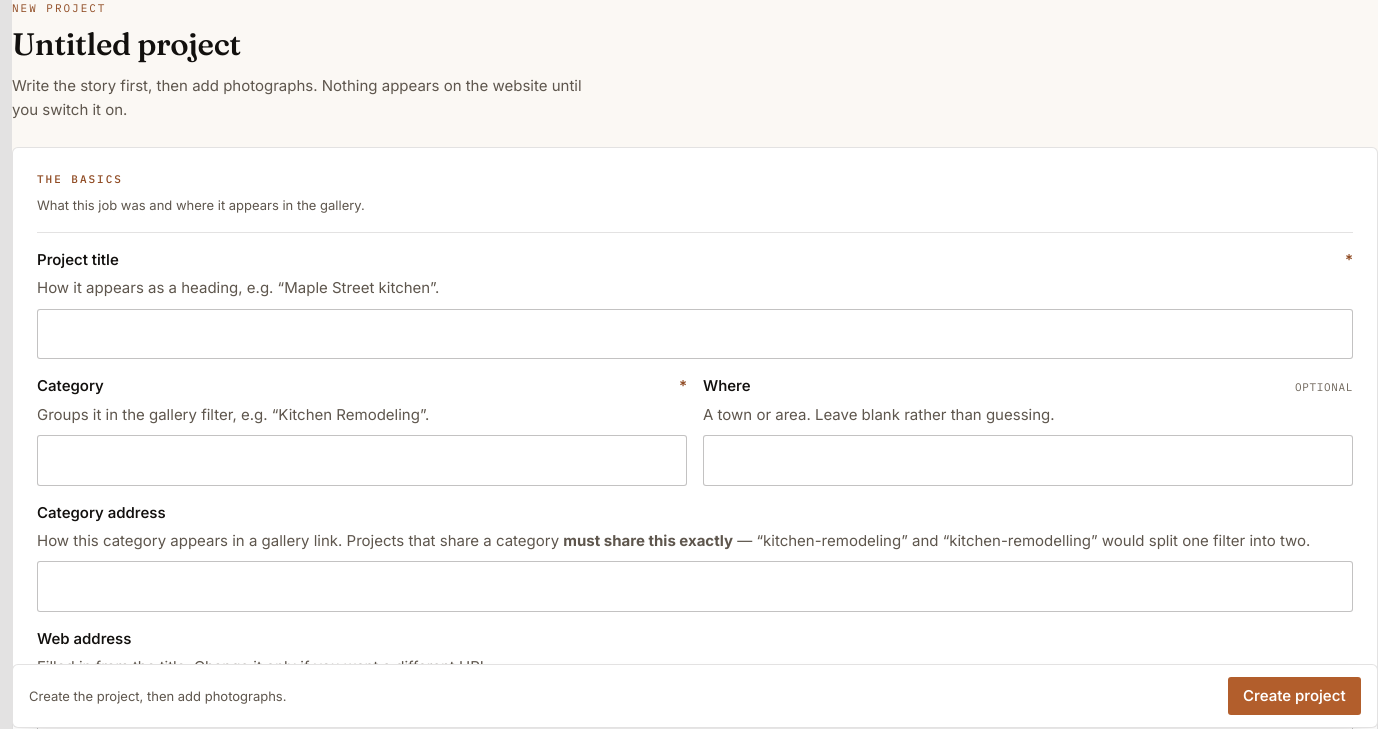
Scenario: creating a project › shows the address it will use, derived from the title
Type "Oak Avenue Bathroom" into the field labelled "Project title *" at (695, 334), box [37, 309, 1353, 359]
(page scrolled)
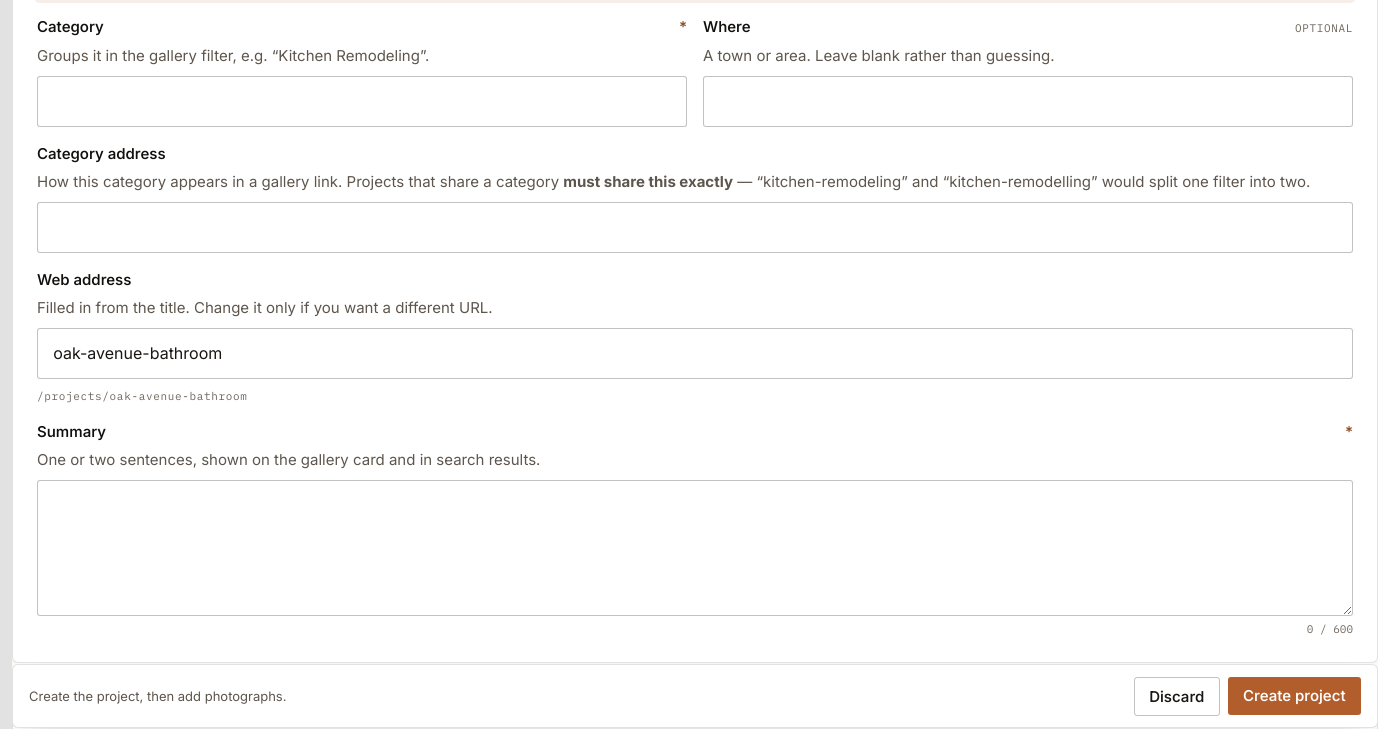
Now the text "/projects/oak-avenue-bathroom" is shown, box [37, 389, 248, 403]
